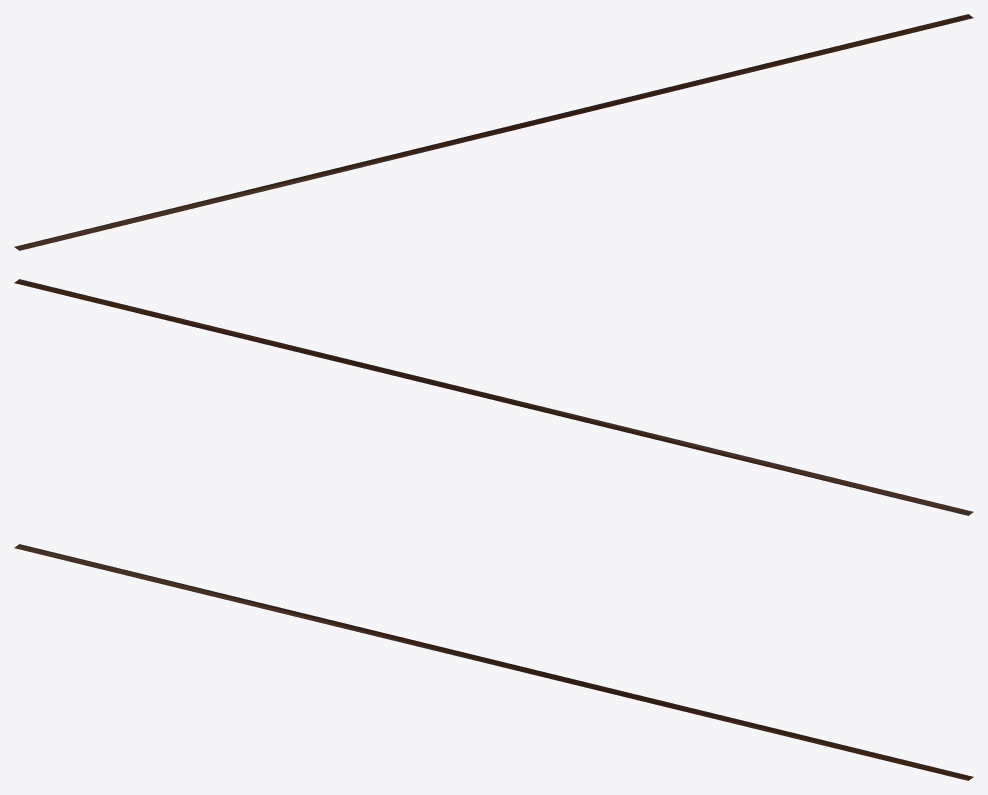
Rendered from LowWallStone_100_footprint.fbx.
The picture shows the model from 3 angles, top to bottom: view 1: azimuth 30°, elevation 25°; view 2: azimuth 150°, elevation 25°; view 3: azimuth 330°, elevation 25°; orthographic projection.
Parts seen in each view (by area): view 1: footprint; view 2: footprint; view 3: footprint.
Boxes of the visible parts, x1,y1,x2,y2 form: footprint: (14,14,973,250); footprint: (14,279,973,515); footprint: (14,544,973,780).
Size of the model in its own units: 10000 by 1.63e-05 by 100.
1 material, 1 textured.
